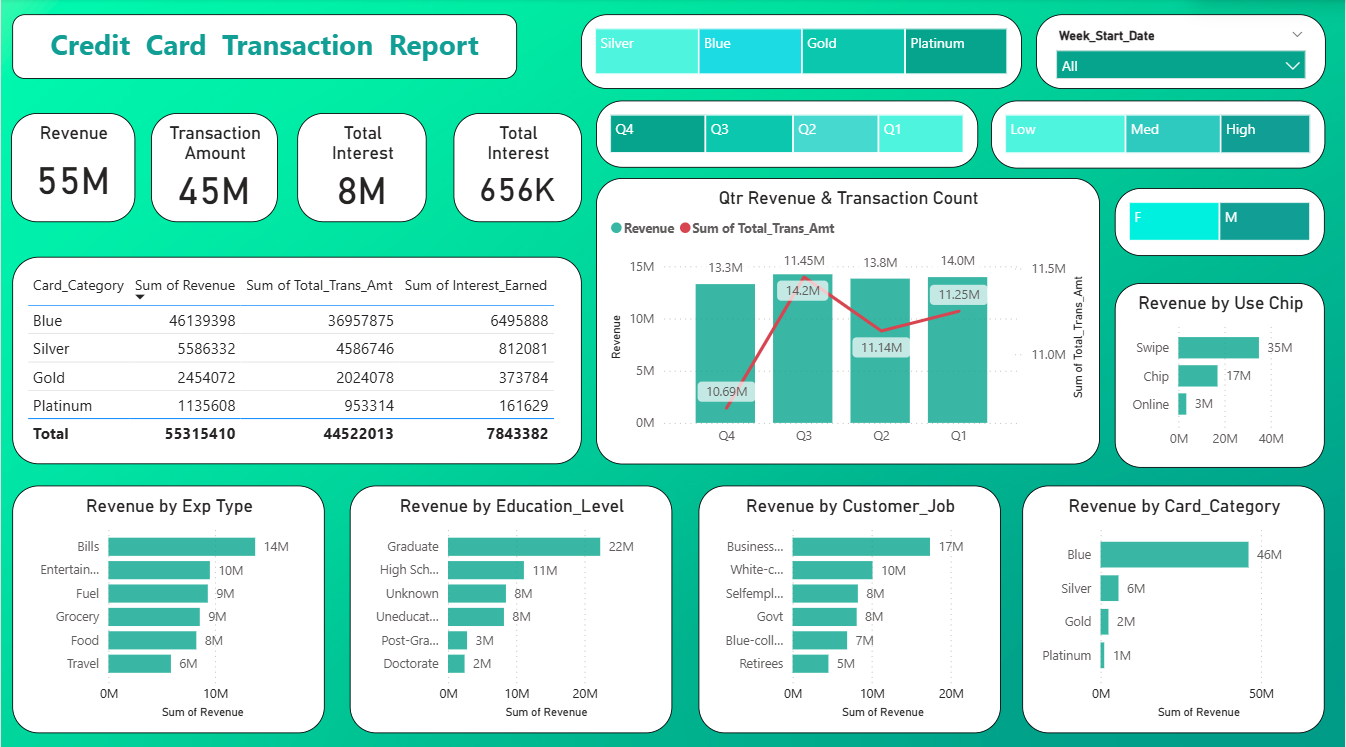

The page's visual inventory and layout, read from the dashboard file:
{"tool":"powerbi","page":{"name":"CC_Transaction","canvas":[1280,720],"ordinal":1},"visuals":[{"type":"textbox","box":[10.7,15.5,481,61.9],"z":0},{"type":"lineStackedColumnComboChart","title":"Qtr Revenue & Transaction Count","fields":{"Category":["credit_card.Qtr"],"Y":["Sum(credit_card.Revenue)"],"Y2":["Sum(credit_card.Total_Trans_Amt)"]},"box":[566.7,171.4,479.8,272.6],"z":1000},{"type":"barChart","title":"Revenue by Exp Type","fields":{"Y":["Sum(credit_card.Revenue)"],"Category":["credit_card.Exp Type"]},"box":[11,463.8,297.8,236],"z":2000},{"type":"barChart","title":"Revenue by Education_Level","fields":{"Category":["customer.Education_Level"],"Y":["Sum(credit_card.Revenue)"]},"box":[332.1,463.8,307.4,236],"z":3000},{"type":"barChart","title":"Revenue by Customer_Job","fields":{"Category":["customer.Customer_Job"],"Y":["Sum(credit_card.Revenue)"]},"box":[664.2,463.8,288.2,236],"z":4000},{"type":"barChart","title":"Revenue by Card_Category","fields":{"Category":["credit_card.Card_Category"],"Y":["Sum(credit_card.Revenue)"]},"box":[972.9,463.8,288.2,236],"z":5000},{"type":"barChart","title":"Revenue by Use Chip","fields":{"Category":["credit_card.Use Chip"],"Y":["Sum(credit_card.Revenue)"]},"box":[1060.7,271.7,200.3,175.6],"z":6000},{"type":"tableEx","fields":{"Values":["credit_card.Card_Category","Sum(credit_card.Revenue)","Sum(credit_card.Total_Trans_Amt)","Sum(credit_card.Interest_Earned)"]},"box":[11,247,542,197.6],"z":7000},{"type":"card","title":"Revenue","fields":{"Values":["Sum(credit_card.Revenue)"]},"box":[9.6,109.8,118,104.3],"z":8000},{"type":"card","title":"Transaction Amount","fields":{"Values":["Sum(credit_card.Total_Trans_Amt)"]},"box":[142.7,109.8,120.8,104.3],"z":9000},{"type":"card","title":"Total Interest","fields":{"Values":["Sum(credit_card.Interest_Earned)"]},"box":[282.7,109.8,123.5,104.3],"z":10000},{"type":"card","title":"Total Interest","fields":{"Values":["Sum(credit_card.Total_Trans_Vol)"]},"box":[430.9,109.8,122.1,104.3],"z":11000},{"type":"slicer","fields":{"Values":["credit_card.Week_Start_Date"]},"box":[985.3,15.1,275.8,71.4],"z":12000},{"type":"treemap","fields":{"Group":["credit_card.Qtr"],"Values":["Avg(credit_card.Client_Num)"]},"box":[566.7,97.6,364.3,64.3],"z":13000},{"type":"treemap","fields":{"Group":["customer.Gender"],"Values":["Avg(credit_card.Client_Num)"]},"box":[1060.7,181.1,200.3,64.5],"z":14000},{"type":"treemap","fields":{"Group":["credit_card.Card_Category"],"Values":["Avg(credit_card.Client_Num)"]},"box":[552.4,15.5,420.2,71.4],"z":15000},{"type":"treemap","fields":{"Group":["customer.IncomeGroup"],"Values":["Sum(credit_card.Client_Num)"]},"box":[942.7,97.4,318.4,64.5],"z":16000}]}

Visuals, with their boxes in screenshot pixels (x1, y1, x2, y2), scaled from the page's 1280x720 canvas onto the 1346x747 screenshot:
textbox: x1=11 y1=16 x2=517 y2=80
"Qtr Revenue & Transaction Count" lineStackedColumnComboChart: x1=596 y1=178 x2=1100 y2=461
"Revenue by Exp Type" barChart: x1=12 y1=481 x2=325 y2=726
"Revenue by Education_Level" barChart: x1=349 y1=481 x2=672 y2=726
"Revenue by Customer_Job" barChart: x1=698 y1=481 x2=1002 y2=726
"Revenue by Card_Category" barChart: x1=1023 y1=481 x2=1326 y2=726
"Revenue by Use Chip" barChart: x1=1115 y1=282 x2=1326 y2=464
tableEx - credit_card.Card_Category x Sum(credit_card.Revenue): x1=12 y1=256 x2=582 y2=461
"Revenue" card: x1=10 y1=114 x2=134 y2=222
"Transaction Amount" card: x1=150 y1=114 x2=277 y2=222
"Total Interest" card: x1=297 y1=114 x2=427 y2=222
"Total Interest" card: x1=453 y1=114 x2=582 y2=222
slicer - credit_card.Week_Start_Date: x1=1036 y1=16 x2=1326 y2=90
treemap - credit_card.Qtr x Avg(credit_card.Client_Num): x1=596 y1=101 x2=979 y2=168
treemap - customer.Gender x Avg(credit_card.Client_Num): x1=1115 y1=188 x2=1326 y2=255
treemap - credit_card.Card_Category x Avg(credit_card.Client_Num): x1=581 y1=16 x2=1023 y2=90
treemap - customer.IncomeGroup x Sum(credit_card.Client_Num): x1=991 y1=101 x2=1326 y2=168
